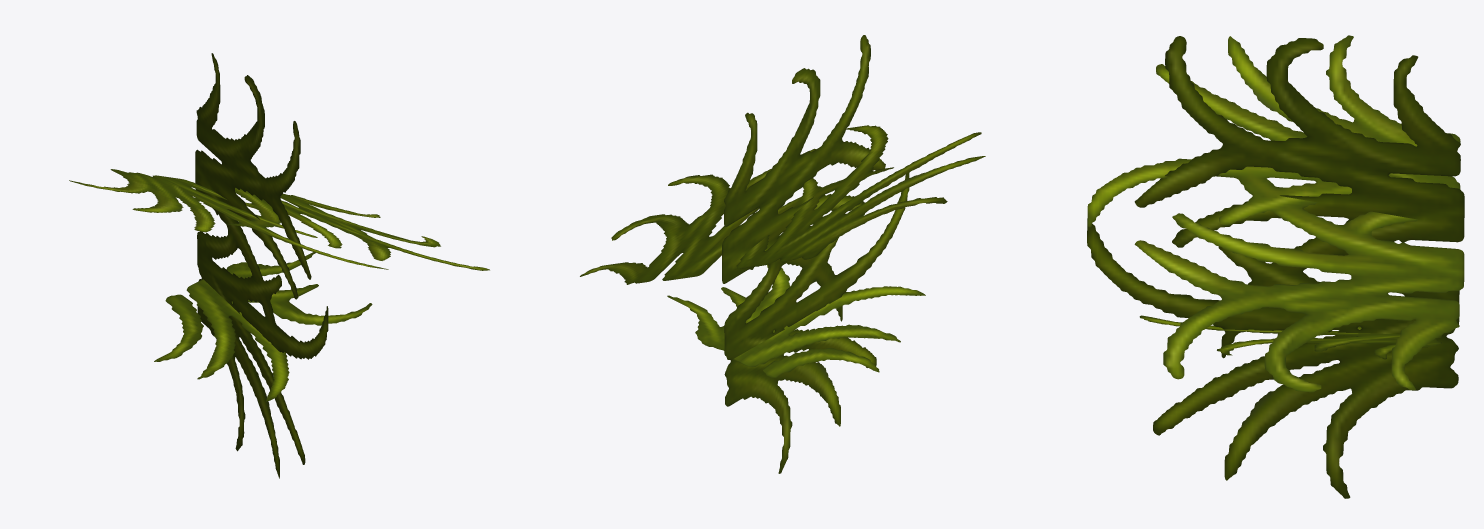
The model's file is grass_short01.FBX.
3 renders of one model, left to right at view 1: azimuth 30°, elevation 25°; view 2: azimuth 150°, elevation 25°; view 3: azimuth 270°, elevation 25°, orthographic. The views are drawn at different scales.
Parts seen in each view (by area): view 1: grass_small_a002; view 2: grass_small_a002; view 3: grass_small_a002.
Part boxes in pixels (x1,y1,x2,y2): grass_small_a002: (69,53,489,478); grass_small_a002: (580,35,985,473); grass_small_a002: (1087,35,1464,498).
Bounding box in the file's own units: 1.89 × 1.98 × 1.53.
